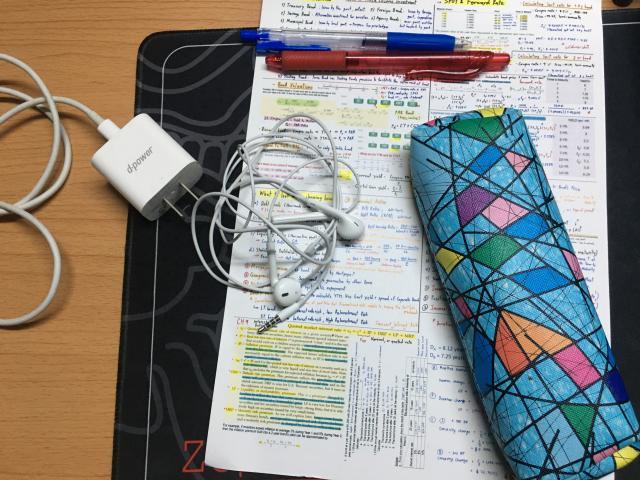Pen: (265, 50, 510, 80), (240, 28, 471, 51)
paper: (205, 1, 614, 480)
wire: (0, 53, 210, 326), (191, 112, 364, 334)
